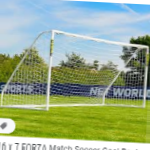goals: (1, 28, 150, 113)
